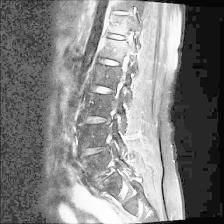disc: (103, 29, 132, 45), (95, 54, 124, 70), (110, 7, 135, 20)
hdisc: (80, 111, 116, 131), (76, 142, 114, 160), (89, 166, 119, 188), (89, 82, 119, 99)
